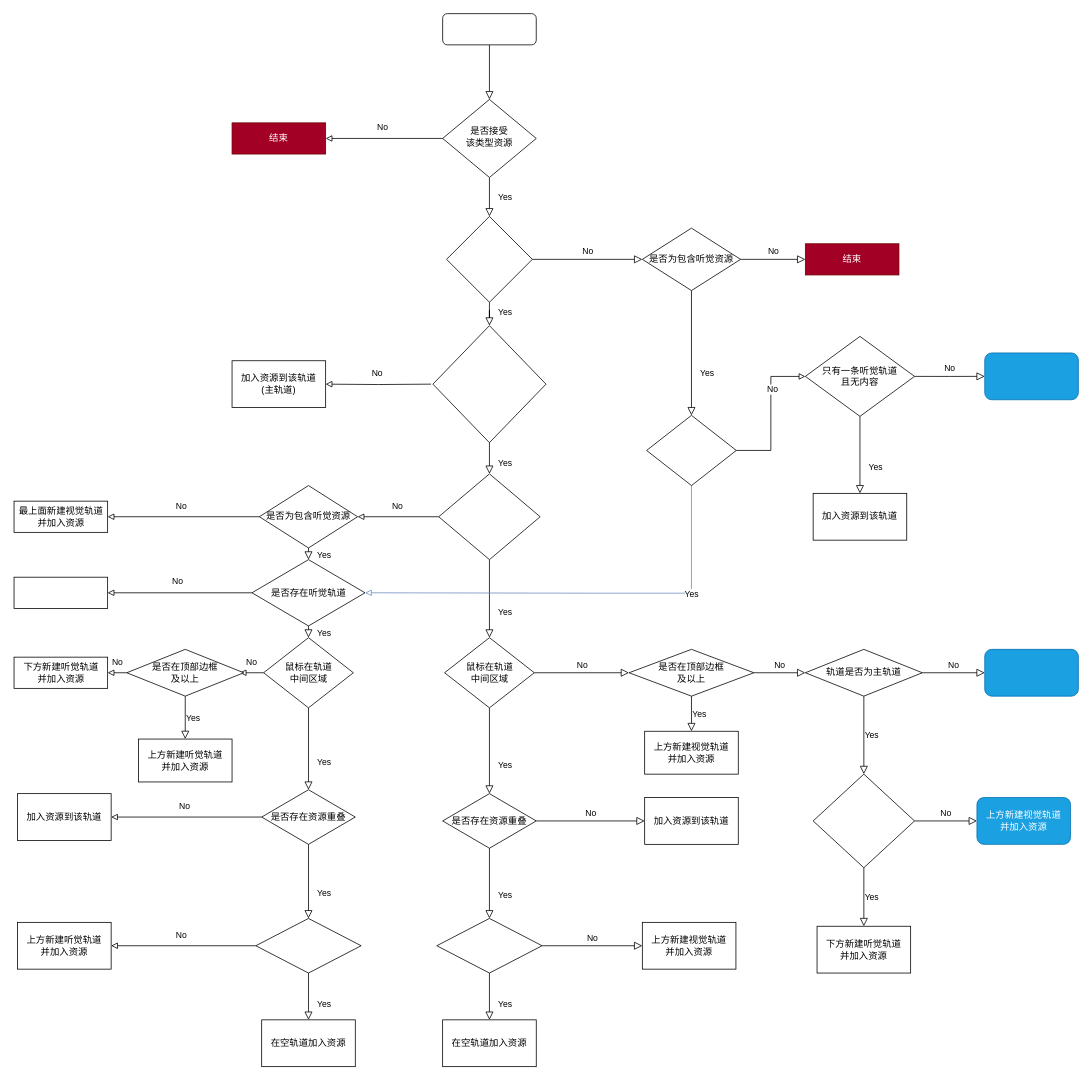
Image size: 1092x1080. Some labels were removed from this diagram. Here are the shapes that lost their labels. From the top down, the centre of each, then its label:
(x=489, y=29): 开始拖资源到时间轴
(x=489, y=259): 是否包含视觉资源
(x=489, y=384): 视觉轨道数大于一条 或者 主轨道有内容
(x=1031, y=376): 主轨道下方新建听觉轨道，并加入资源
(x=691, y=450): 鼠标在主轨道 以下的位置
(x=489, y=516): 鼠标在主轨道 及以上位置
(x=60, y=592): 主轨道下方 新建听觉轨道 并加入资源
(x=1031, y=672): 下方新建视觉轨道 并加入资源
(x=863, y=820): 是否包含听觉资源
(x=308, y=945): 上下是否有听觉 轨道存在空位置
(x=489, y=945): 上方是否有视觉 轨道存在空位置
